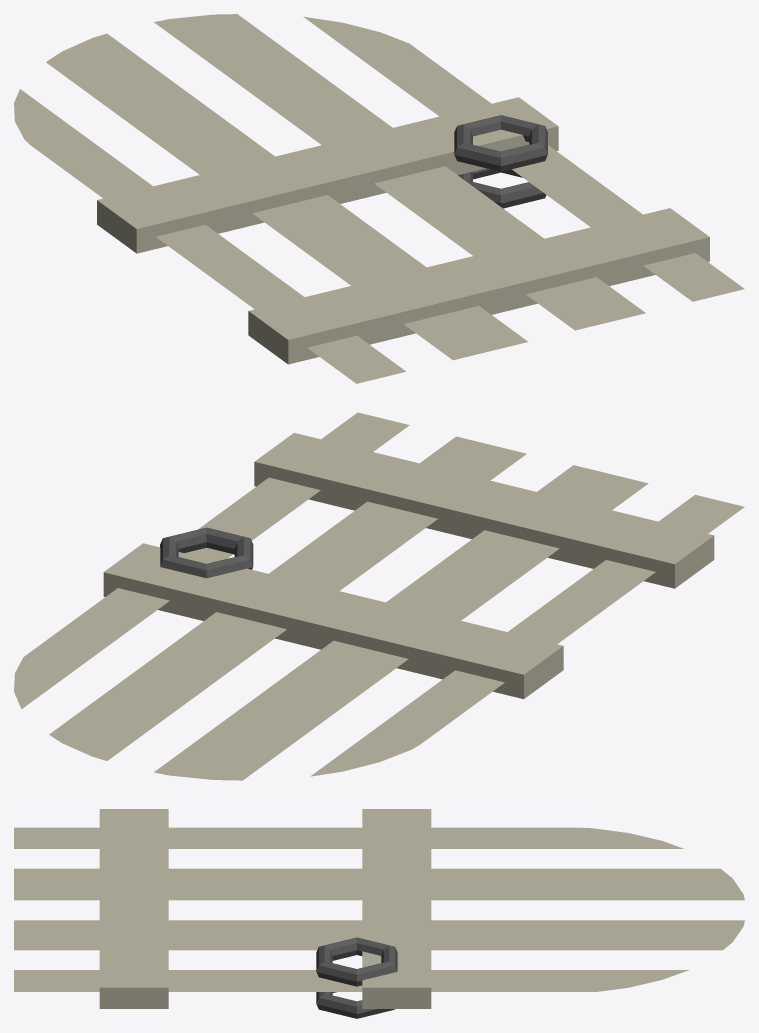
File: FenceDoor.fbx
3 renders of one model, top to bottom at view 1: azimuth 30°, elevation 25°; view 2: azimuth 150°, elevation 25°; view 3: azimuth 270°, elevation 25°, orthographic. The views are drawn at different scales.
Parts seen in each view (by area): view 1: Torus.001; view 2: Torus.001; view 3: Torus.001.
Part boxes in pixels (left/top/right/bottom): Torus.001: left=14, top=14, right=744, bottom=383; Torus.001: left=14, top=412, right=744, bottom=780; Torus.001: left=14, top=809, right=744, bottom=1018.
Size of the model in its own units: 296 by 38.12 by 513.
